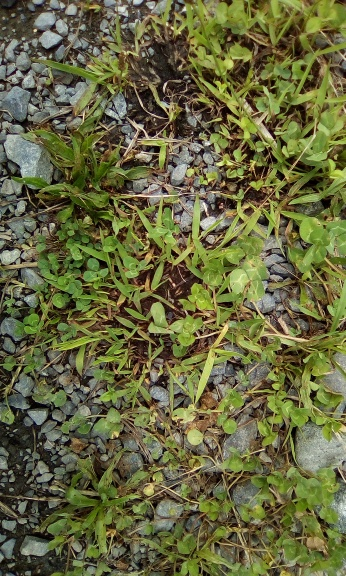4leaf: (177, 315, 204, 348), (187, 283, 216, 311)
